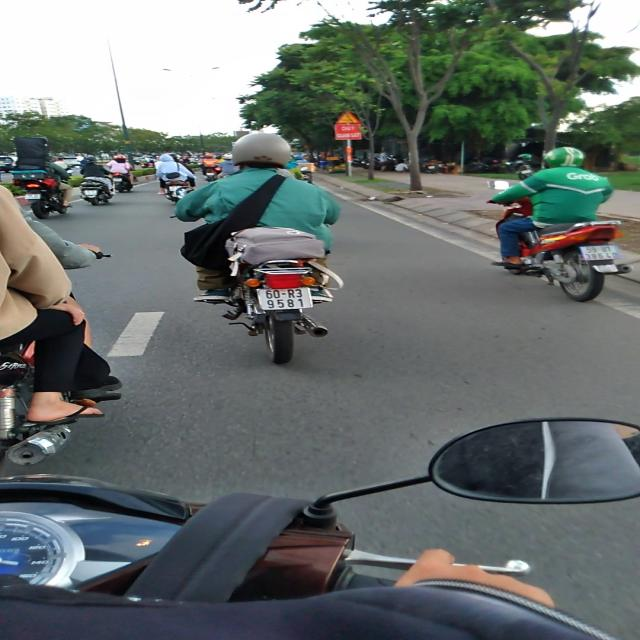Nguy hiem: (334, 111, 362, 124)
